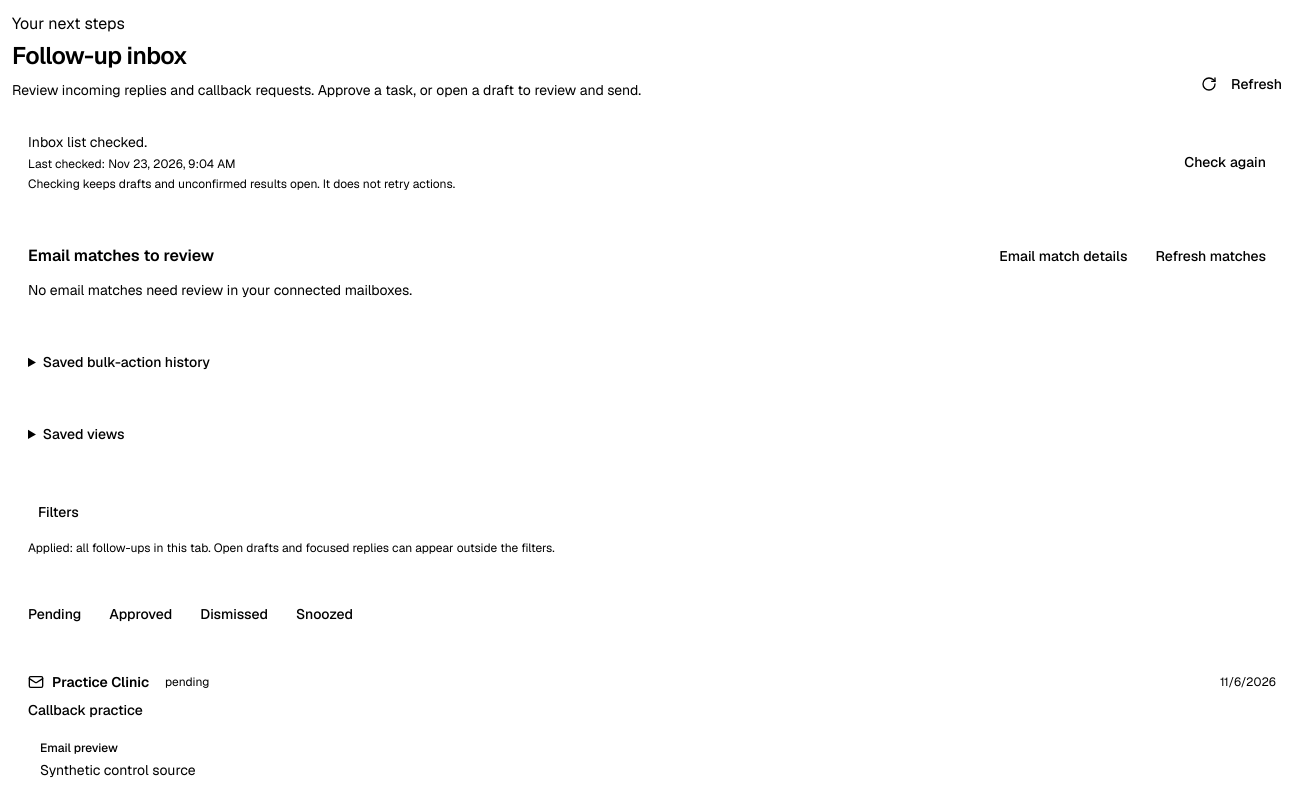
Test: compacts only an empty successful mailbox check and preserves its mounted details
The width and height of the screenshot is (1304, 797).
Expected: the text "Synthetic control source" is shown, [40, 761, 196, 779]
Expected: the text "No email matches need review in your connected mailboxes." is shown, [28, 281, 412, 299]
Click the button "Email match details": (1063, 256) [989, 240, 1137, 272]
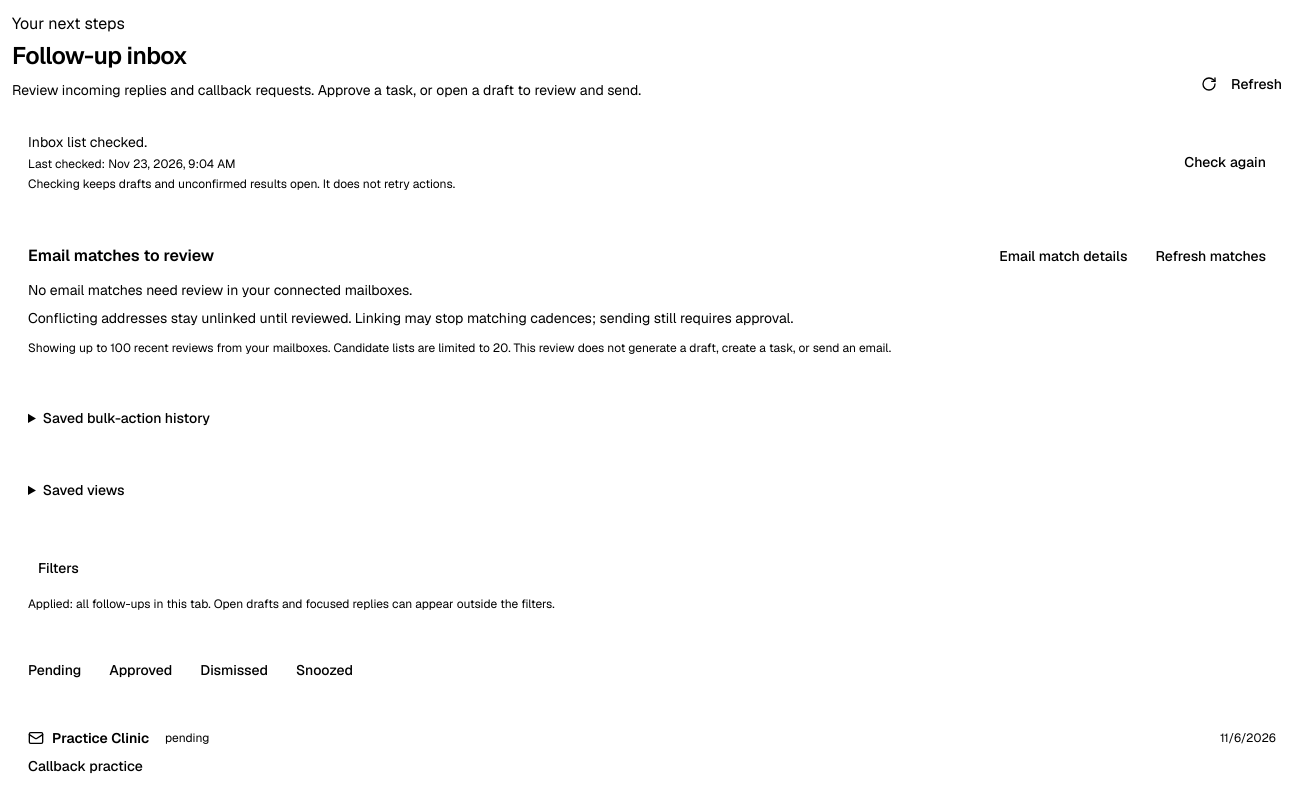
Expected: the text "Conflicting addresses stay unlinked" is shown, [28, 309, 793, 327]
Click the button "Email match details": (1063, 256) [989, 240, 1137, 272]
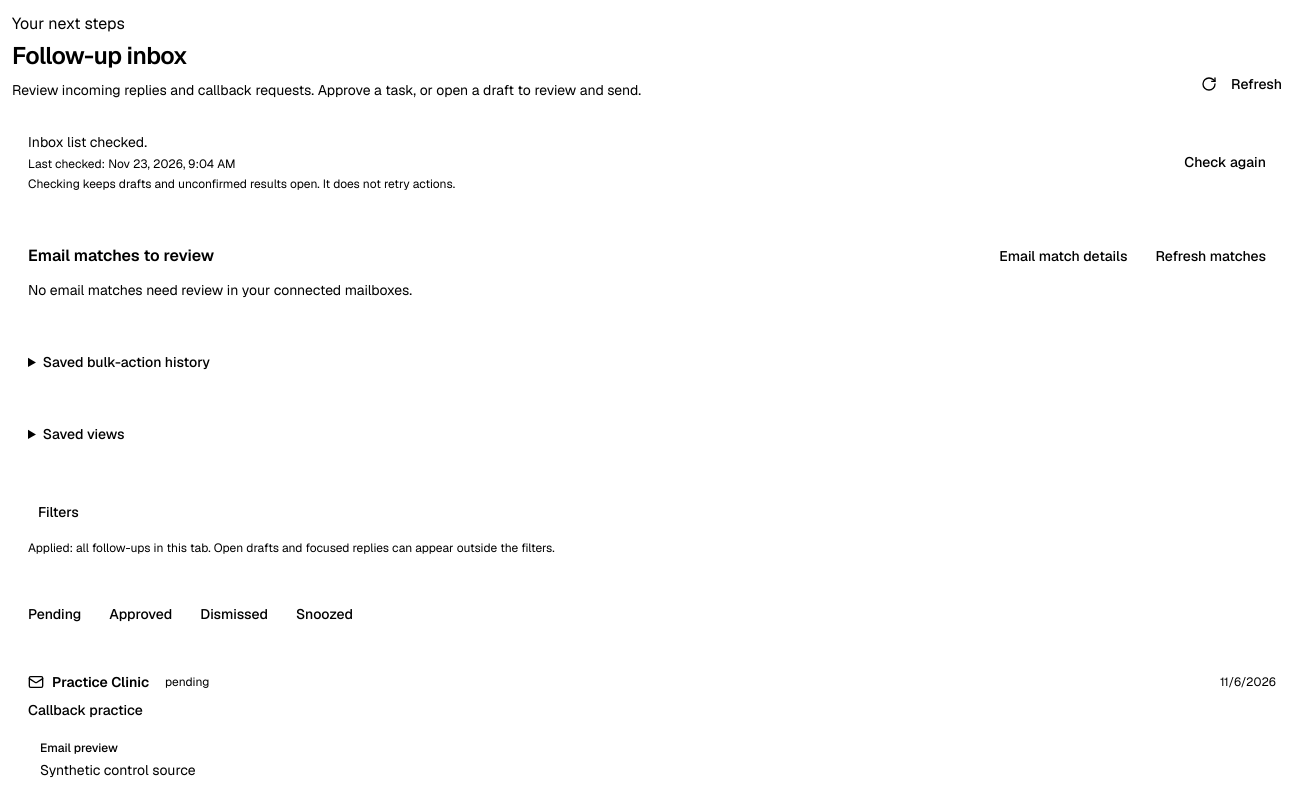
Expected: the text "Conflicting addresses stay unlinked" is gone
